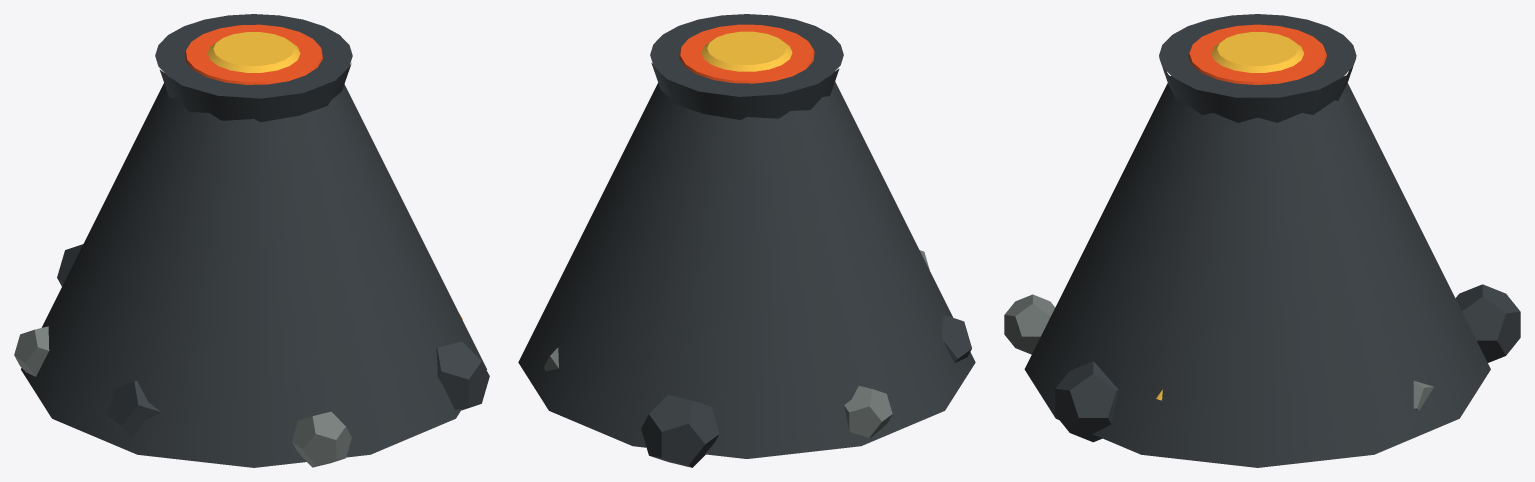
Rendered from volcano.glb.
3 views of the same model, side by side, from view 1: azimuth 30°, elevation 25°; view 2: azimuth 150°, elevation 25°; view 3: azimuth 270°, elevation 25° (orthographic).
Parts seen in each view (by area): view 1: Volcano_VolcanicRock_0, Volcano_Lava_1, Volcano_WeatheredRock_3, Volcano_LavaHot_2; view 2: Volcano_VolcanicRock_0, Volcano_Lava_1, Volcano_LavaHot_2, Volcano_WeatheredRock_3; view 3: Volcano_VolcanicRock_0, Volcano_Lava_1, Volcano_LavaHot_2, Volcano_WeatheredRock_3.
Part boxes in pixels (box(x1,y1,x2,y2)): Volcano_VolcanicRock_0: box(21, 14, 489, 467); Volcano_Lava_1: box(185, 24, 322, 84); Volcano_WeatheredRock_3: box(14, 326, 351, 467); Volcano_LavaHot_2: box(207, 32, 462, 319); Volcano_VolcanicRock_0: box(518, 14, 975, 467); Volcano_Lava_1: box(679, 24, 814, 83); Volcano_LavaHot_2: box(701, 31, 792, 71); Volcano_WeatheredRock_3: box(544, 250, 929, 438); Volcano_VolcanicRock_0: box(1024, 14, 1520, 467); Volcano_Lava_1: box(1188, 24, 1326, 84); Volcano_LavaHot_2: box(1156, 32, 1303, 400); Volcano_WeatheredRock_3: box(1004, 294, 1433, 410).
Size of the model in its own units: 1.84 by 1.44 by 2.04.
